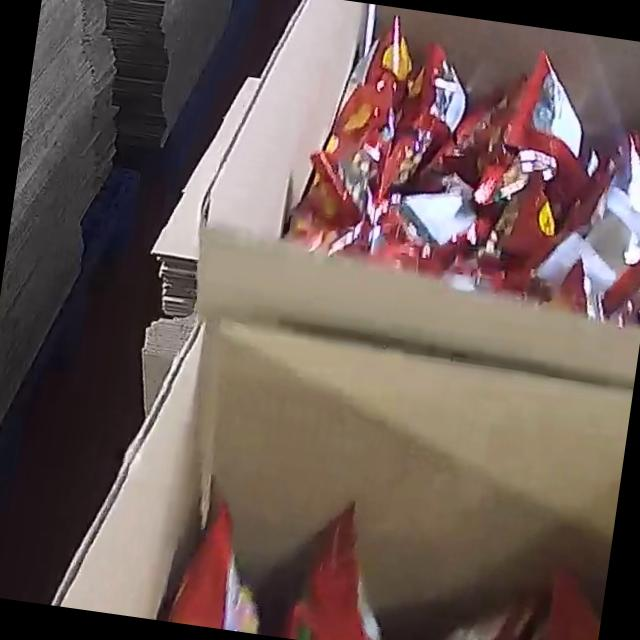masala: (275, 2, 640, 341), (127, 481, 611, 640)
